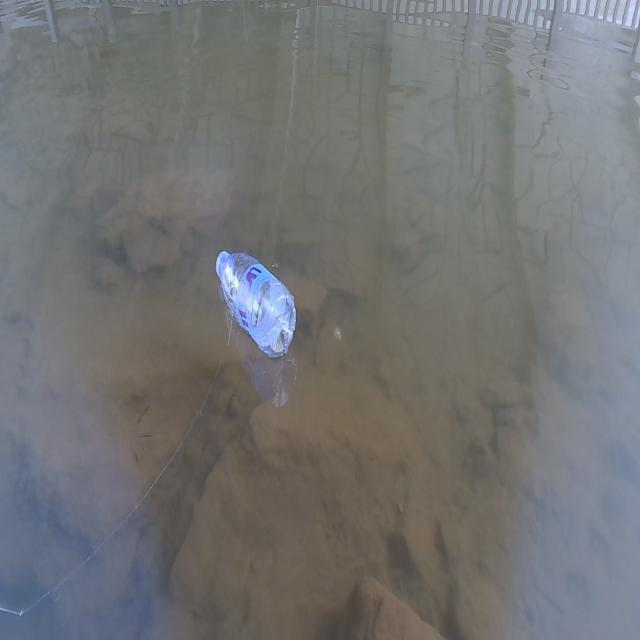garbage: (215, 249, 297, 359)
